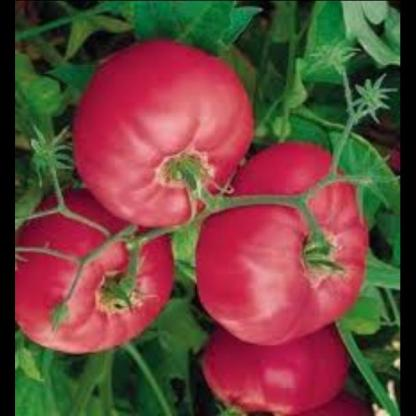tomato: (190, 135, 376, 345), (58, 32, 264, 221), (15, 186, 179, 349), (187, 323, 366, 416)
